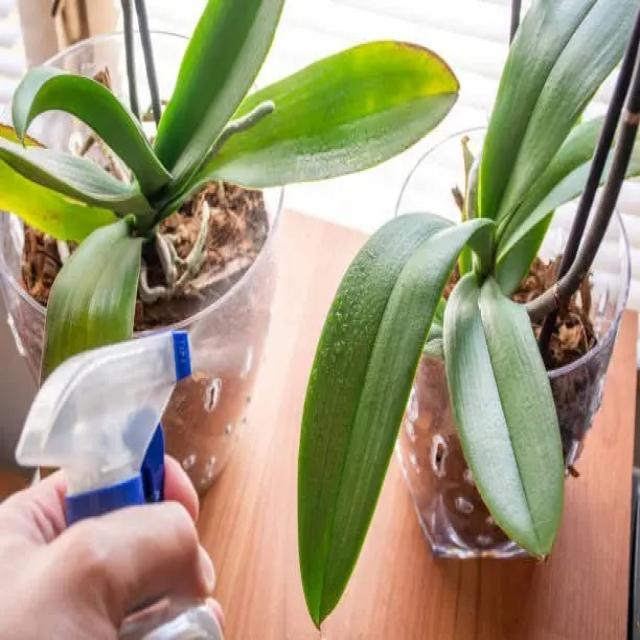leaf: (296, 219, 479, 621), (179, 40, 454, 191), (476, 1, 639, 219), (444, 273, 565, 554), (158, 1, 283, 176), (18, 74, 167, 194), (44, 222, 142, 369)
pot: (11, 124, 283, 496), (402, 196, 631, 577)
